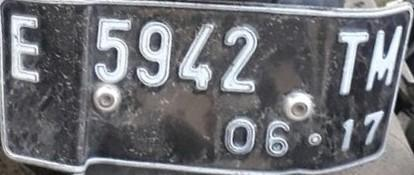2: (212, 26, 262, 101)
4: (172, 19, 222, 96)
5: (90, 21, 132, 84)
9: (130, 22, 172, 88)
E: (6, 7, 50, 87)
M: (365, 26, 404, 94)
T: (334, 27, 368, 96)
